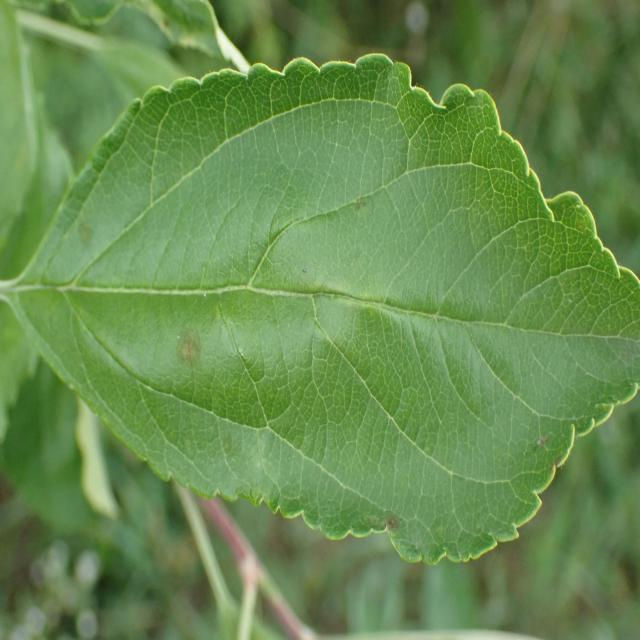scab: (49, 120, 494, 573)
